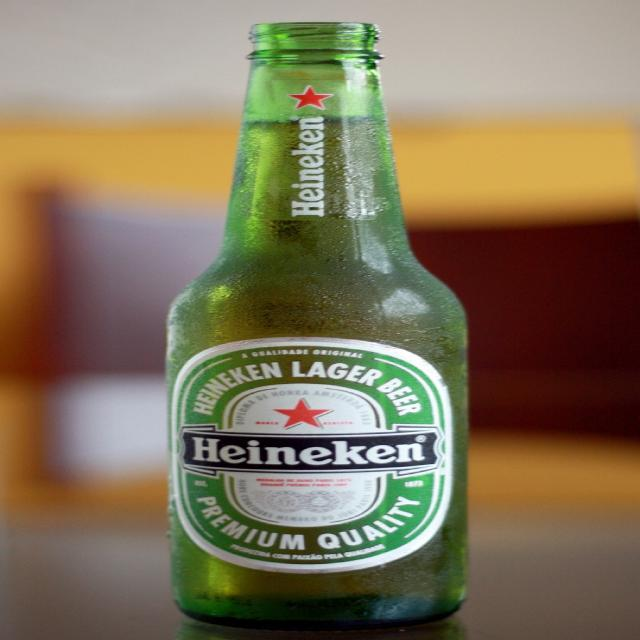heineken: (169, 338, 453, 575)
